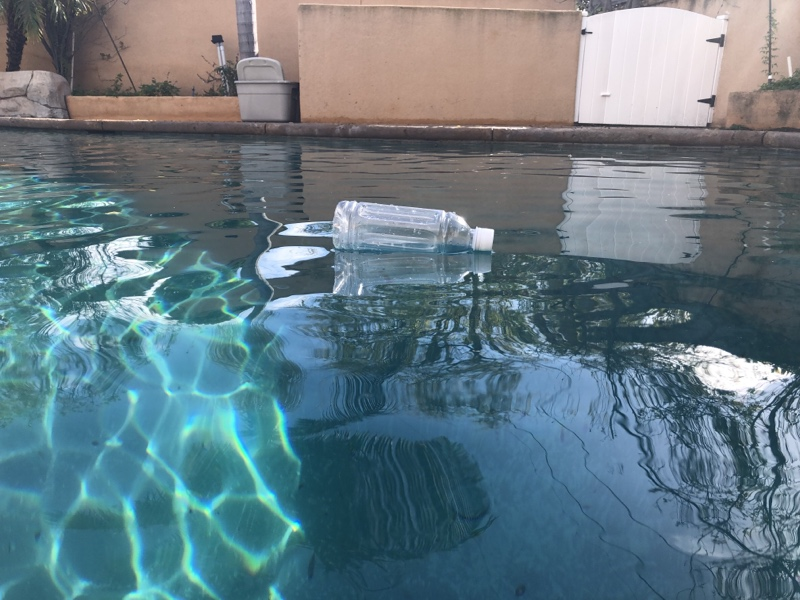Plastic Bottle: (329, 199, 499, 259)
